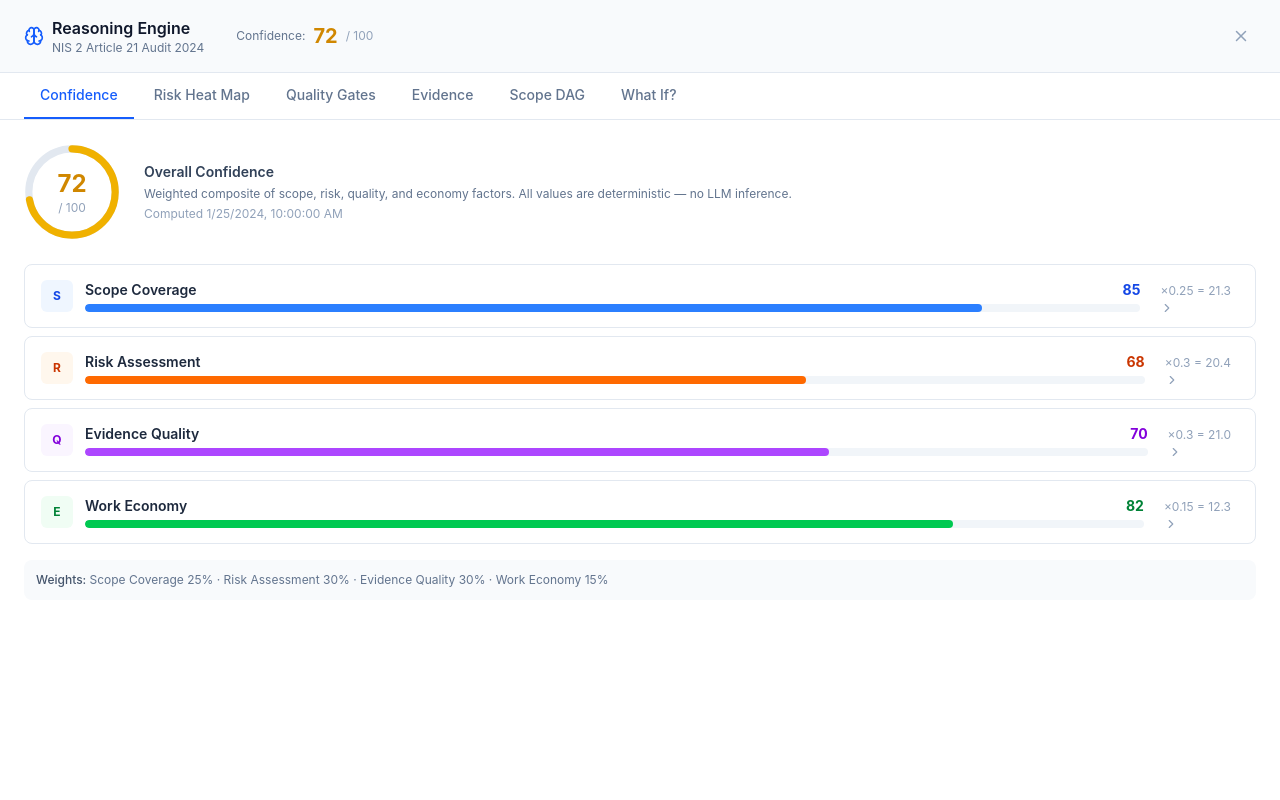
Test case: ReasoningEngineOverlay › switches to What If tab
Click the button with test id "tab-whatif" at (649, 96), box left=605, top=73, right=692, bottom=119
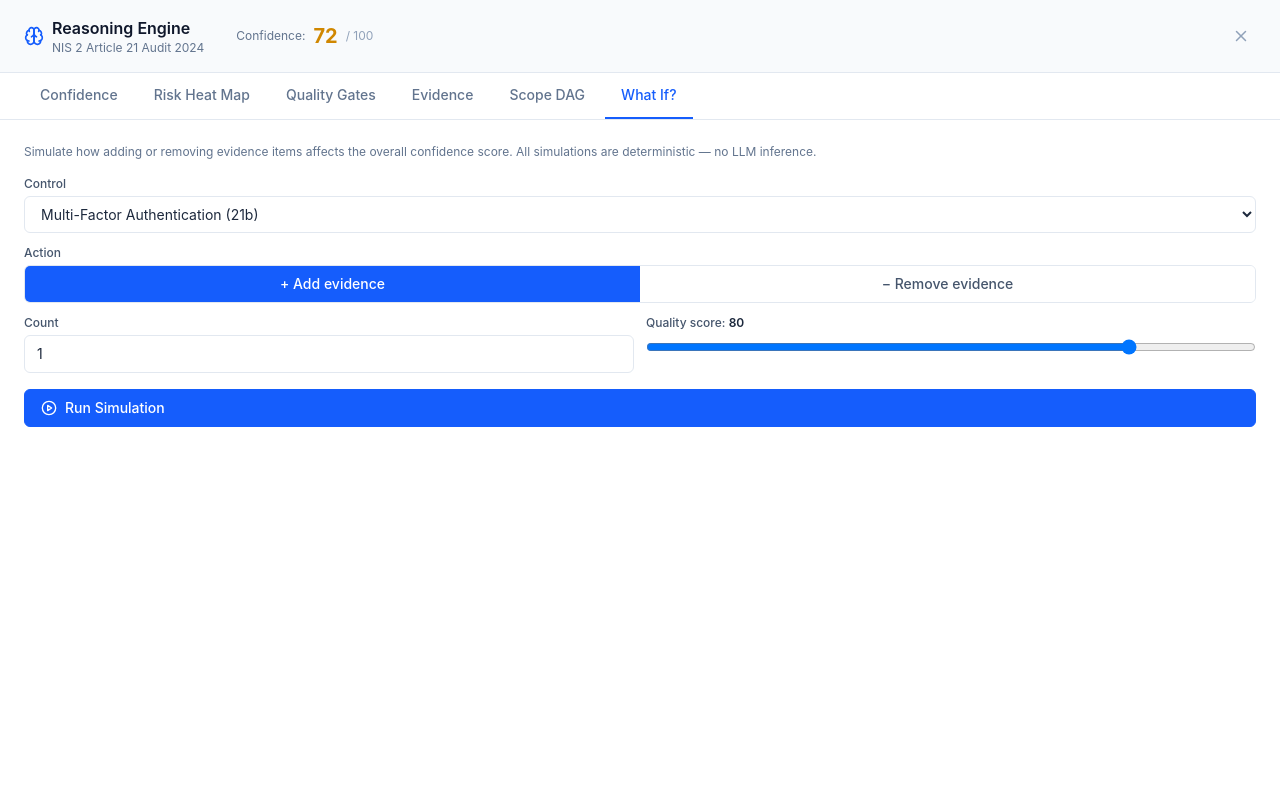
Expected: the element with test id "what-if-panel" is shown, left=24, top=144, right=1256, bottom=427
